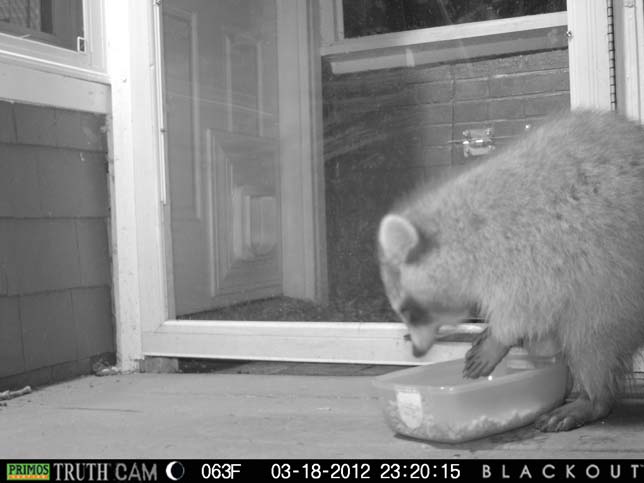raccoon: (350, 97, 637, 420)
